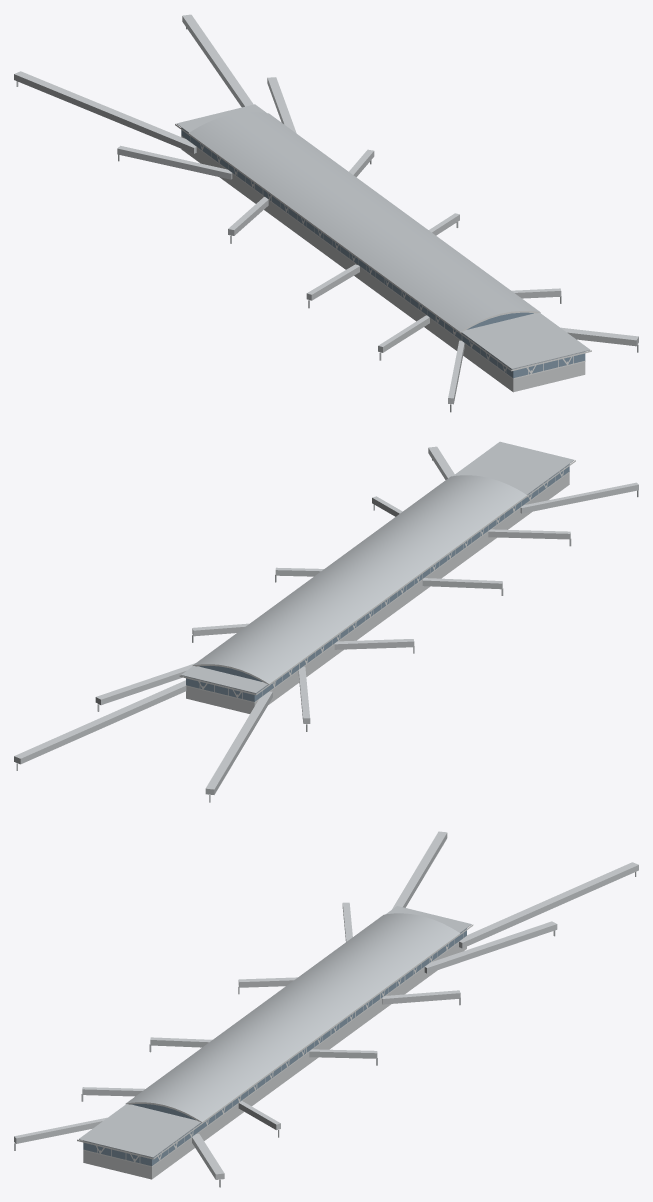
The model's file is london-heathrow-terminal-5c.glb.
3 views of the same model, one above another, from view 1: azimuth 30°, elevation 25°; view 2: azimuth 150°, elevation 25°; view 3: azimuth 330°, elevation 25° (orthographic). The views are drawn at different scales.
Visible parts, largest first — view 1: Heathrow Terminal 5C; view 2: Heathrow Terminal 5C; view 3: Heathrow Terminal 5C.
Boxes of the visible parts, x1=… form: Heathrow Terminal 5C: x1=14, y1=14, x2=638, y2=412; Heathrow Terminal 5C: x1=14, y1=441, x2=638, y2=802; Heathrow Terminal 5C: x1=14, y1=831, x2=638, y2=1187.
Bounding box in the file's own units: 124 × 19.5 × 479.
